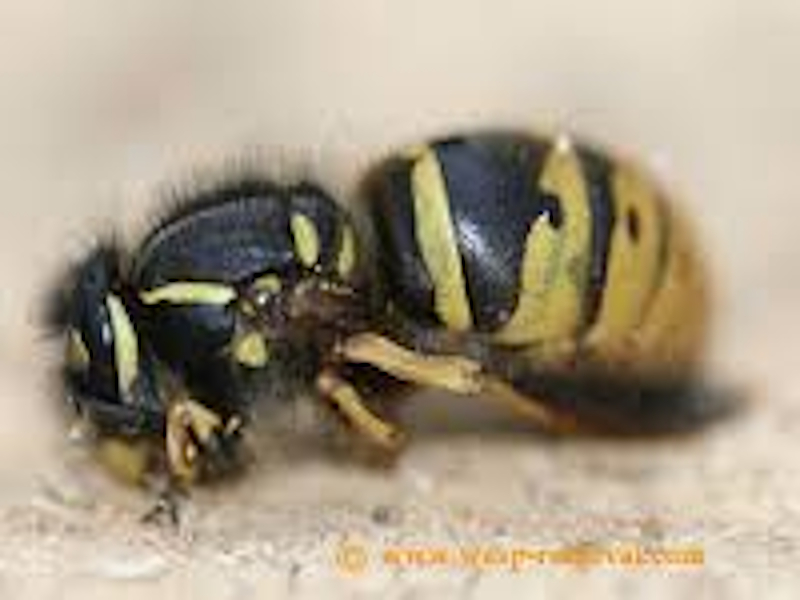chax: (53, 106, 747, 523)
